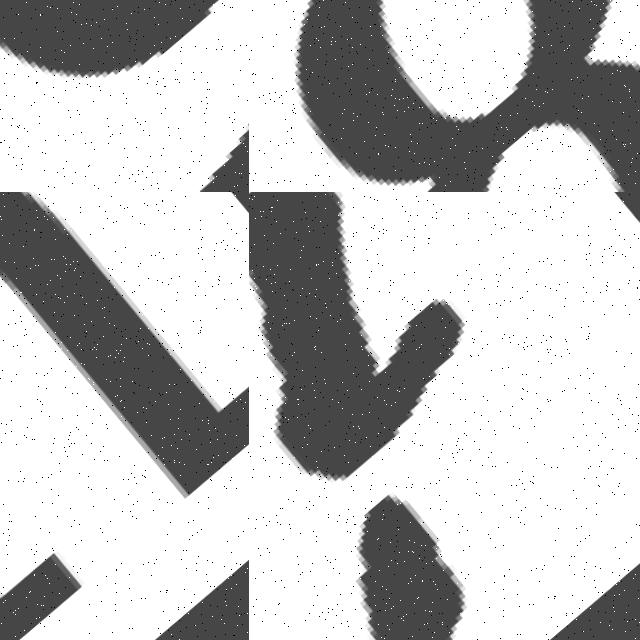6: (0, 0, 249, 192)
8: (249, 0, 640, 192)
I: (249, 192, 640, 640)
U: (0, 192, 249, 640)
